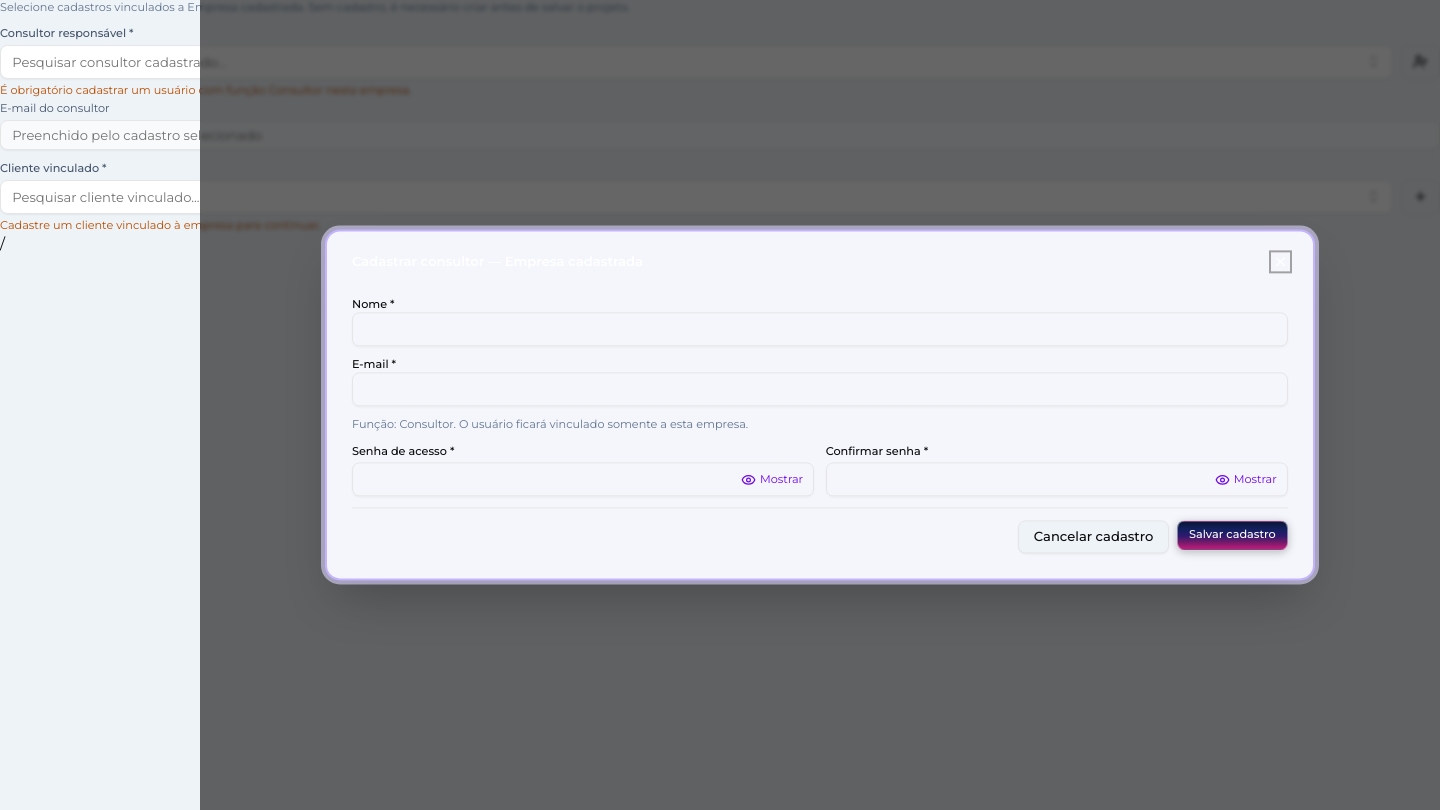
Test: Consultor e cliente são cadastros vinculados reais › mostra e oculta cada senha separadamente, sem enviar o cadastro
Earlier steps of the test are not shown.
Click the button with aria-label "Mostrar senha de acesso".
click(772, 480)  # box x1=730 y1=463 x2=814 y2=496
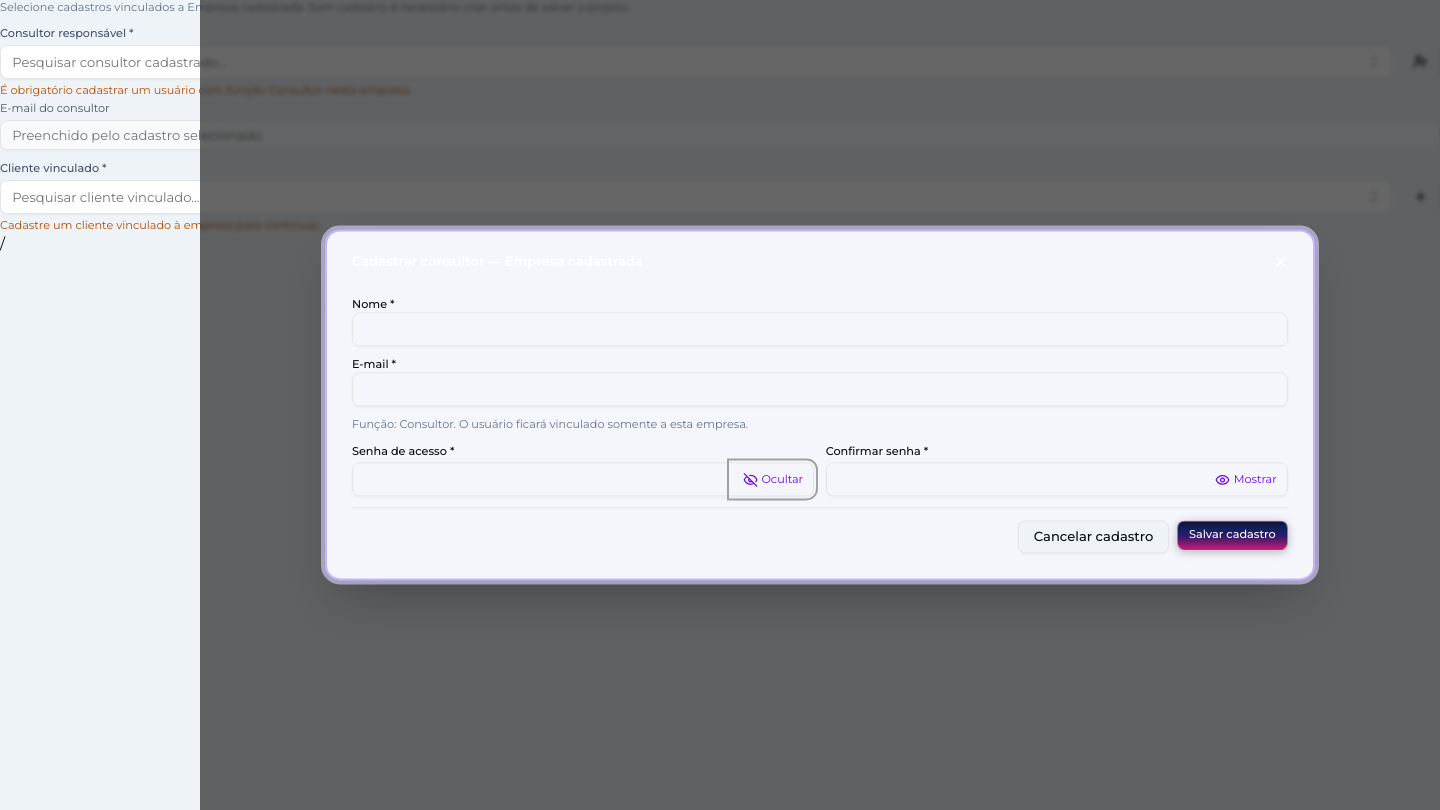
Click the button with aria-label "Mostrar confirmação de senha".
click(1246, 480)  # box x1=1204 y1=463 x2=1288 y2=496
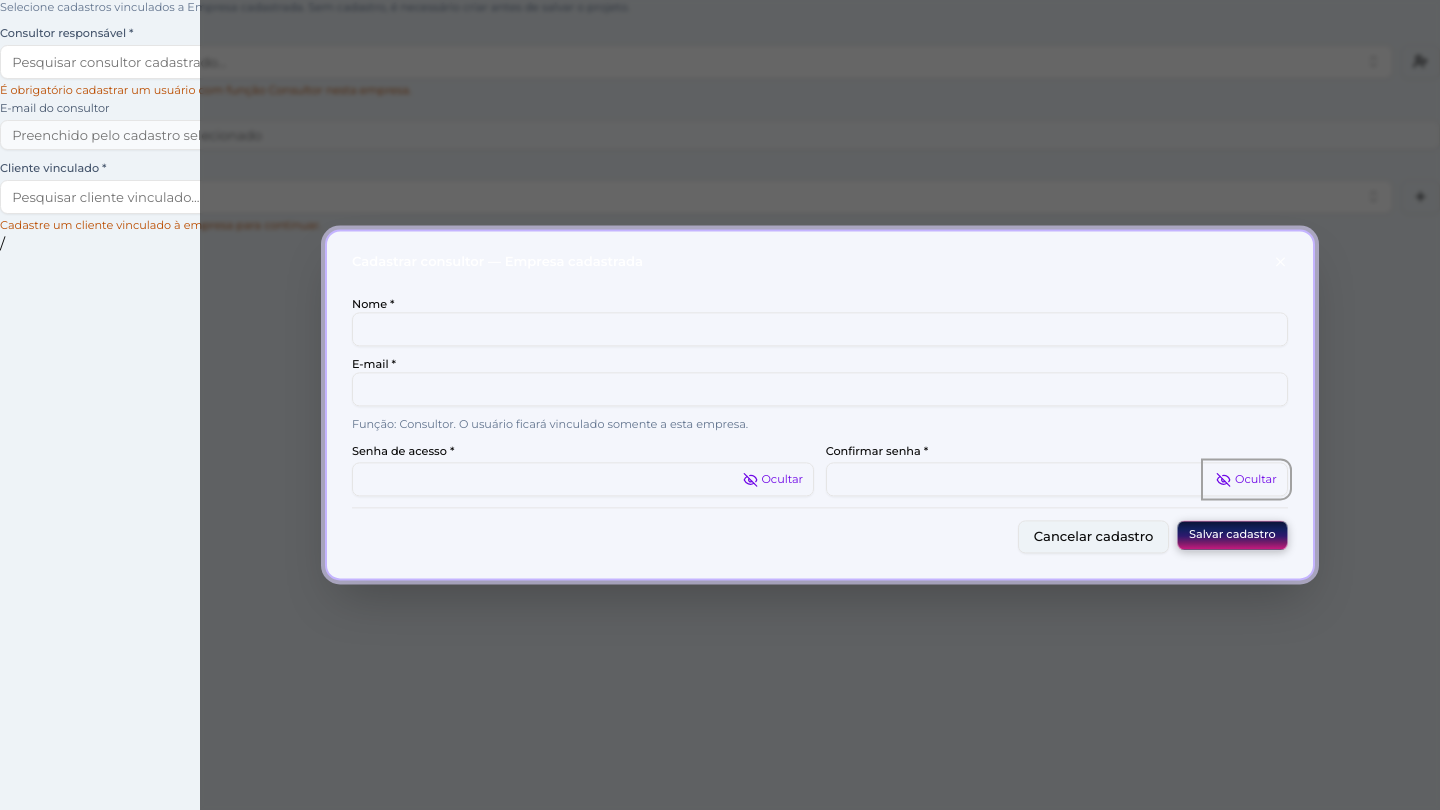
Click the button with aria-label "Ocultar senha de acesso".
click(773, 480)  # box x1=731 y1=463 x2=814 y2=496
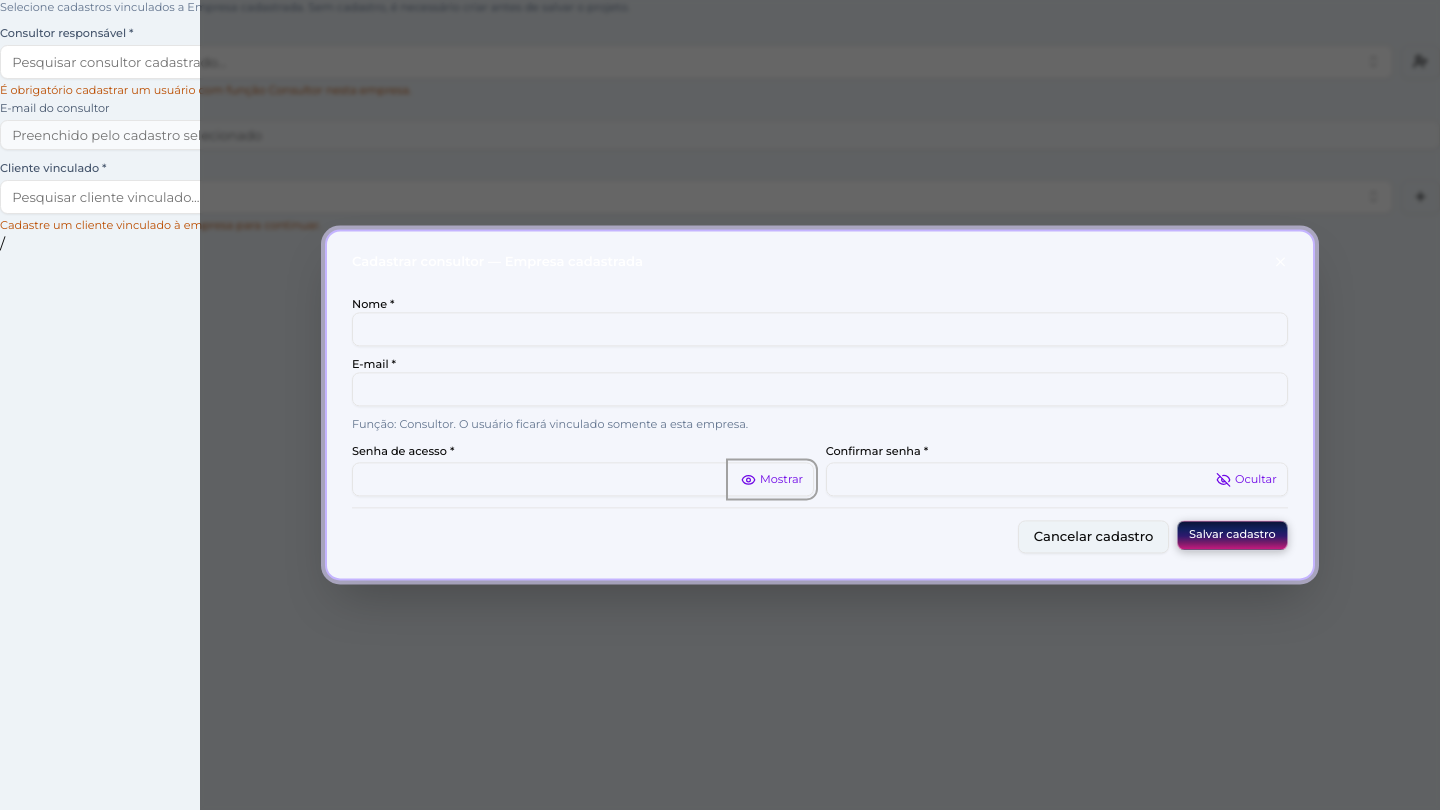
Click the button with aria-label "Ocultar confirmação de senha".
click(1246, 480)  # box x1=1205 y1=463 x2=1288 y2=496
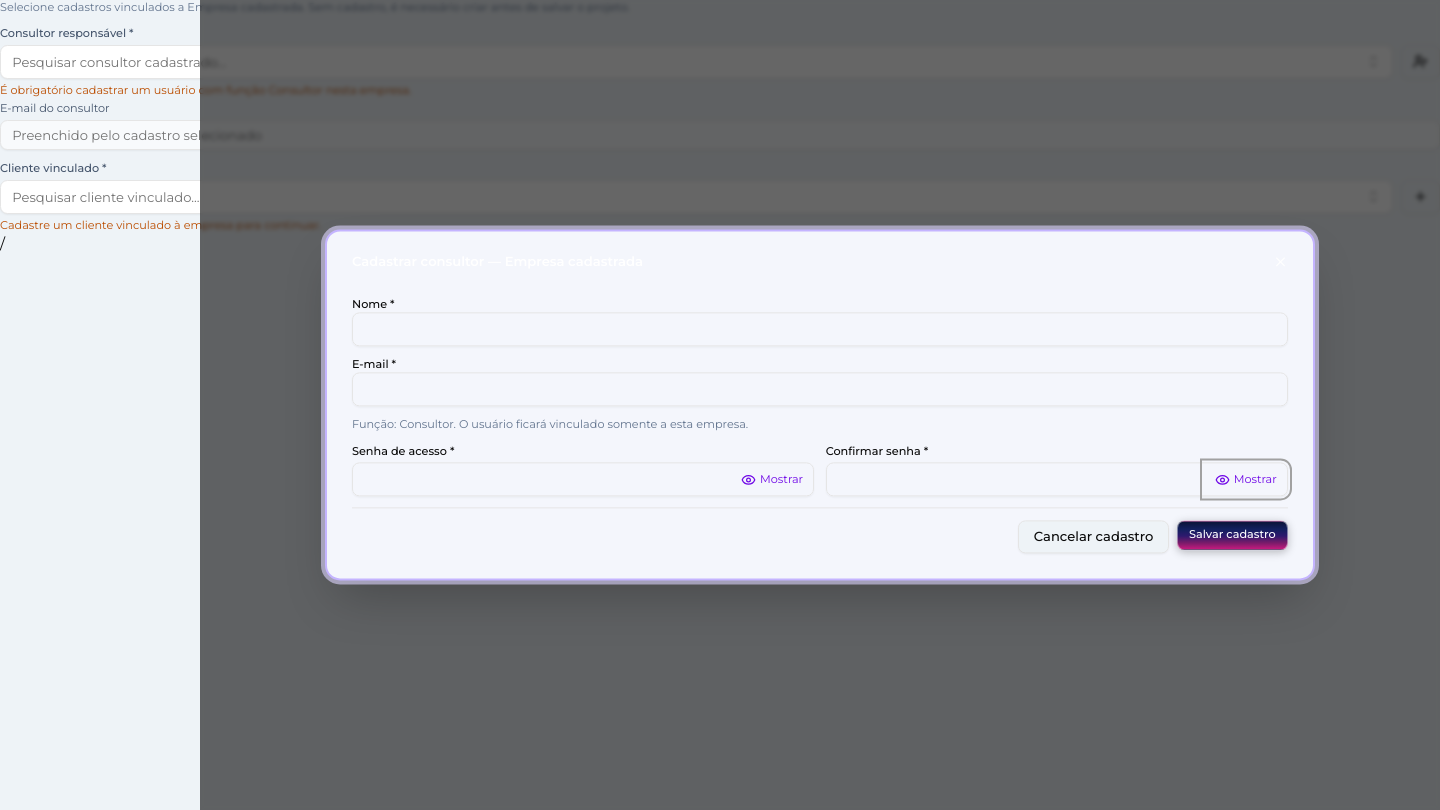
Click the button "Cancelar cadastro".
click(1094, 537)  # box x1=1018 y1=520 x2=1169 y2=554
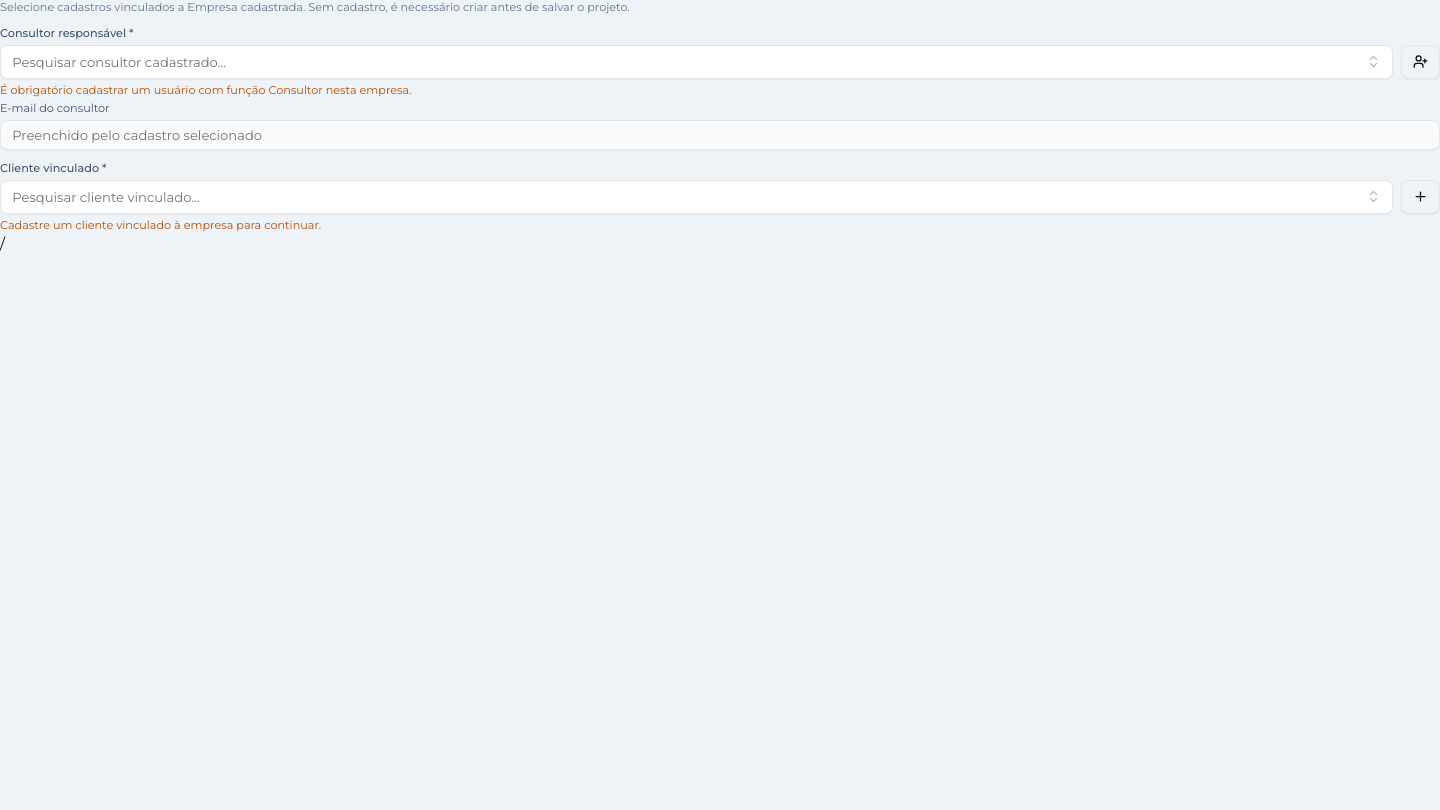
Click the button named "Cadastrar consultor".
click(1420, 62)  # box x1=1400 y1=45 x2=1439 y2=79
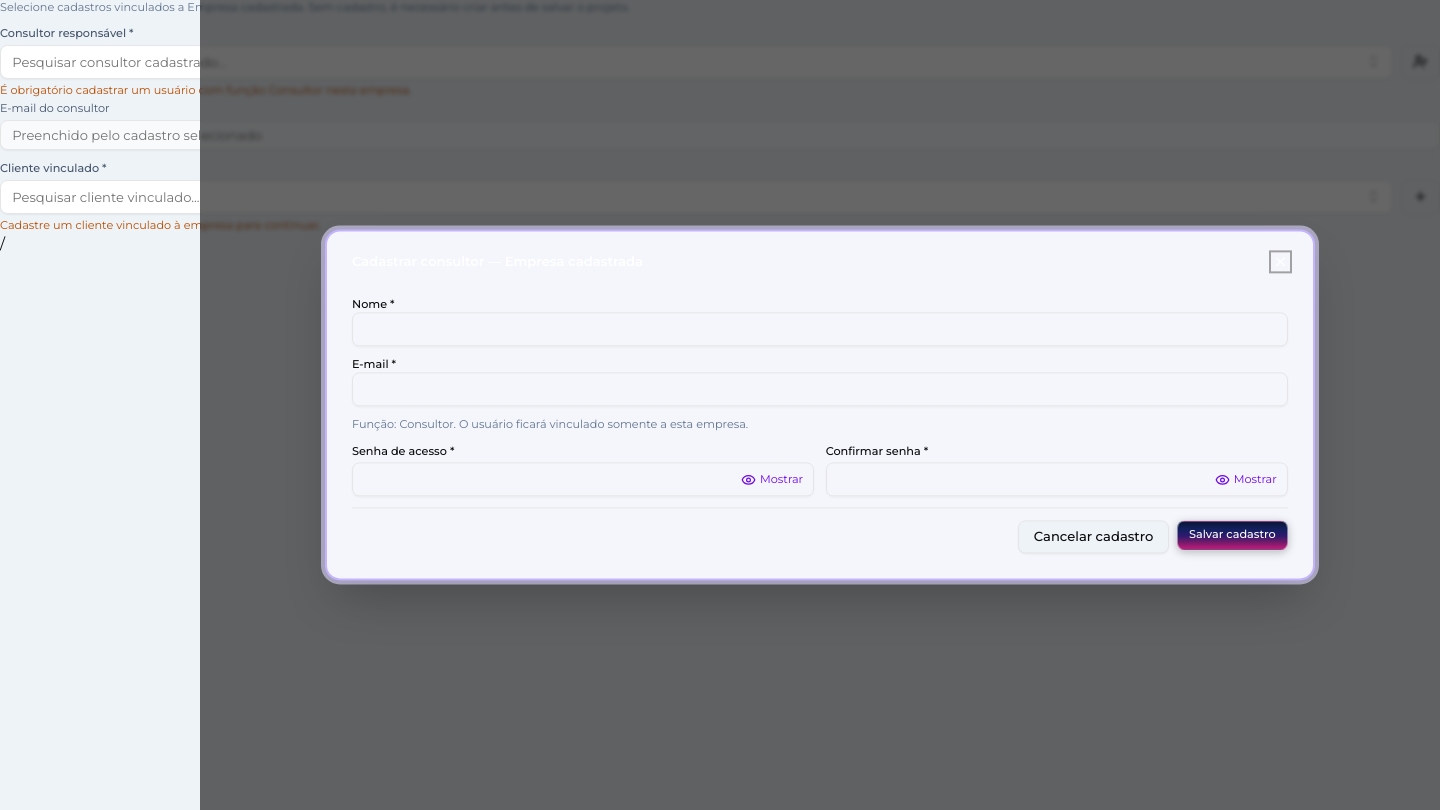
Result: the password field labelled "Confirmar senha *" is empty at x1=826 y1=463 x2=1288 y2=496
